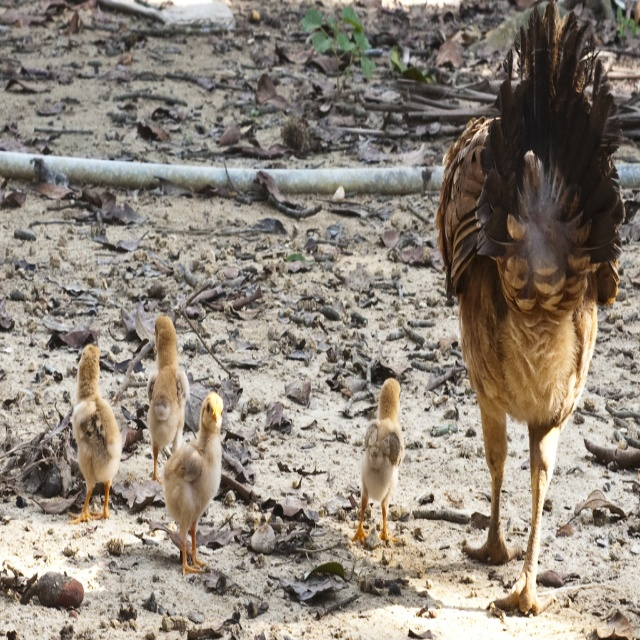Chicken: (433, 41, 632, 590)
